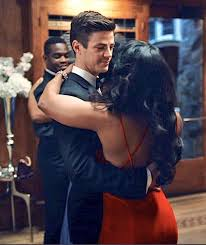Bad: (71, 11, 182, 245), (28, 11, 116, 86)
